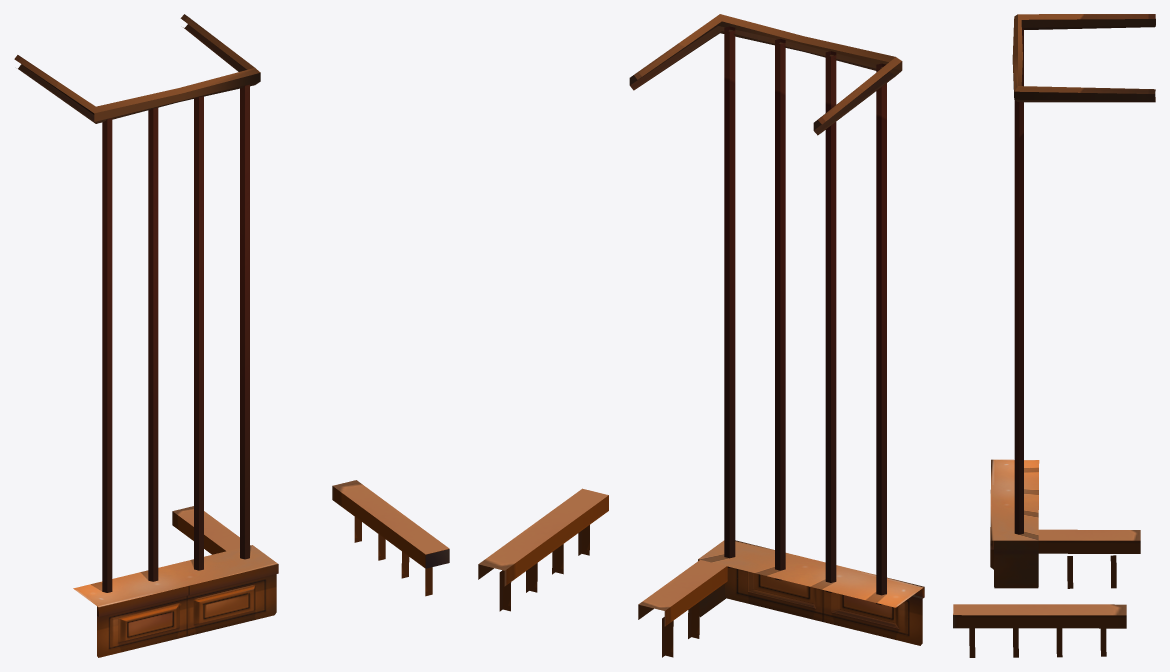
File: Tx_props_jury_box_54.fbx
3 renders of one model, left to right at view 1: azimuth 30°, elevation 25°; view 2: azimuth 150°, elevation 25°; view 3: azimuth 270°, elevation 25°, orthographic. The views are drawn at different scales.
Visible parts, largest first — view 1: Tx_props_jury_box; view 2: Tx_props_jury_box; view 3: Tx_props_jury_box.
Boxes of the visible parts, box(x1,y1,x2,y2) form: Tx_props_jury_box: box(14, 14, 449, 657); Tx_props_jury_box: box(478, 14, 924, 657); Tx_props_jury_box: box(953, 14, 1155, 657).
Size of the model in its own units: 16.9 by 26.58 by 9.7.
